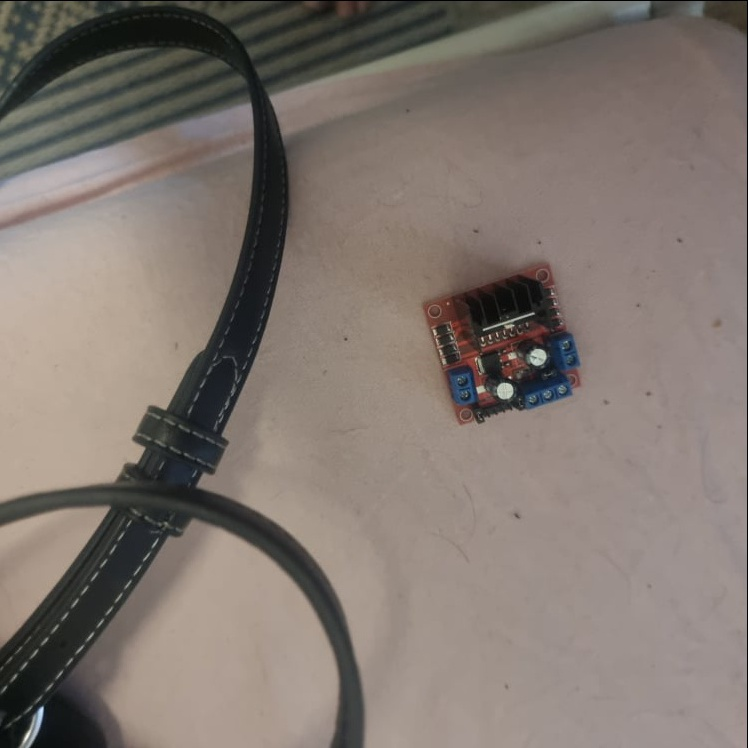MOTOR: (421, 259, 585, 426)
